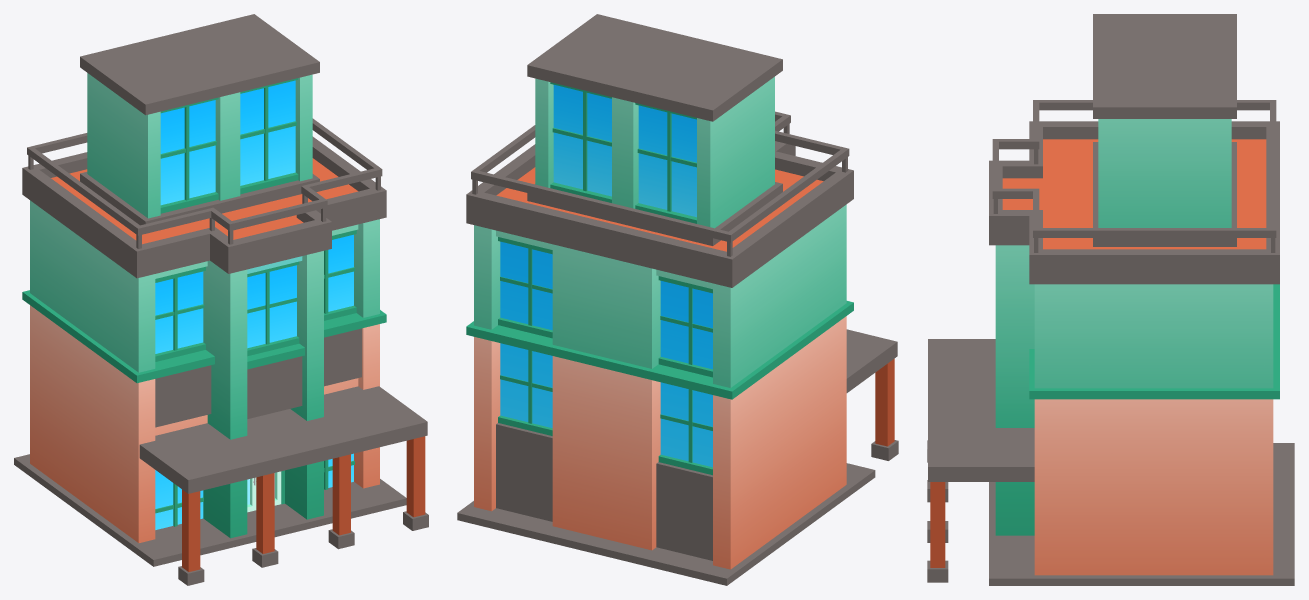
Rendered from Building_Hotel_10.glb.
3 renders of one model, left to right at view 1: azimuth 30°, elevation 25°; view 2: azimuth 150°, elevation 25°; view 3: azimuth 270°, elevation 25°, orthographic. The views are drawn at different scales.
Parts seen in each view (by area): view 1: Building_Hotel_10; view 2: Building_Hotel_10; view 3: Building_Hotel_10.
Boxes of the visible parts, x1,y1,x2,y2 form: Building_Hotel_10: (14,14,428,585); Building_Hotel_10: (457,14,898,585); Building_Hotel_10: (927,14,1294,585).
Size of the model in its own units: 8.22 by 12.94 by 9.41.
Materials: 1 (1 with a texture image).
